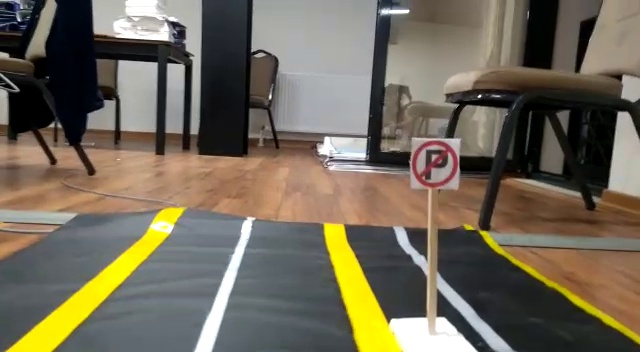park_yapilmaz: (413, 138, 458, 189)
